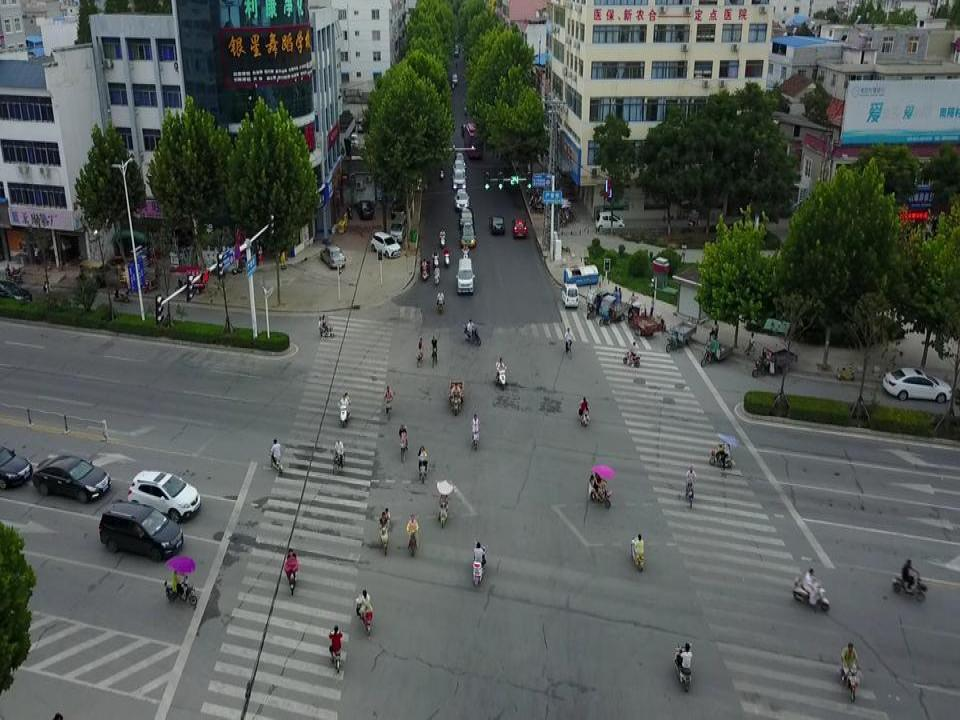bus: (464, 122, 484, 158)
car: (32, 454, 111, 502), (882, 368, 952, 403), (0, 440, 32, 489), (0, 278, 32, 306), (320, 244, 346, 268), (391, 197, 412, 220), (460, 222, 477, 246), (458, 208, 476, 229), (454, 189, 470, 211), (356, 200, 374, 219), (488, 216, 505, 235), (452, 168, 466, 188), (452, 160, 466, 177), (453, 152, 465, 169), (460, 124, 471, 136)
van: (98, 500, 183, 561), (127, 469, 200, 524), (370, 232, 402, 257), (456, 259, 475, 293), (595, 212, 626, 231), (390, 213, 408, 244), (512, 219, 527, 237), (347, 133, 359, 148), (358, 117, 369, 132), (451, 74, 458, 86)
